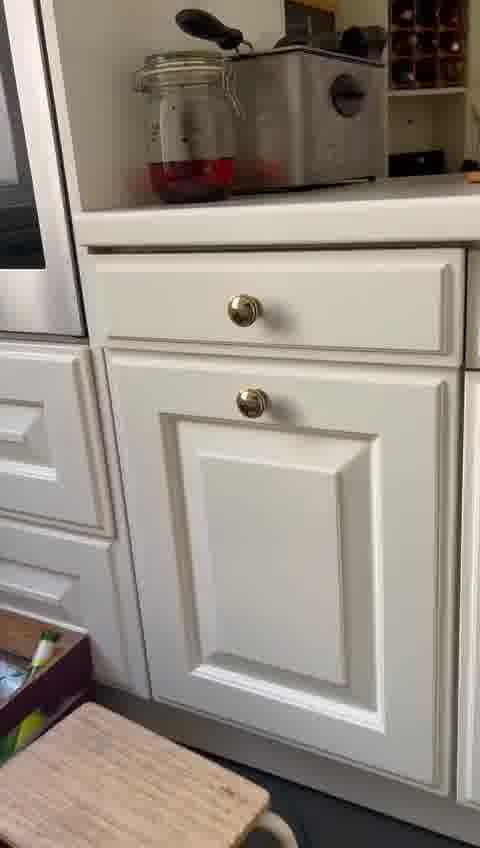cabinet_door: (93, 257, 456, 347)
handle: (0, 334, 82, 365)
